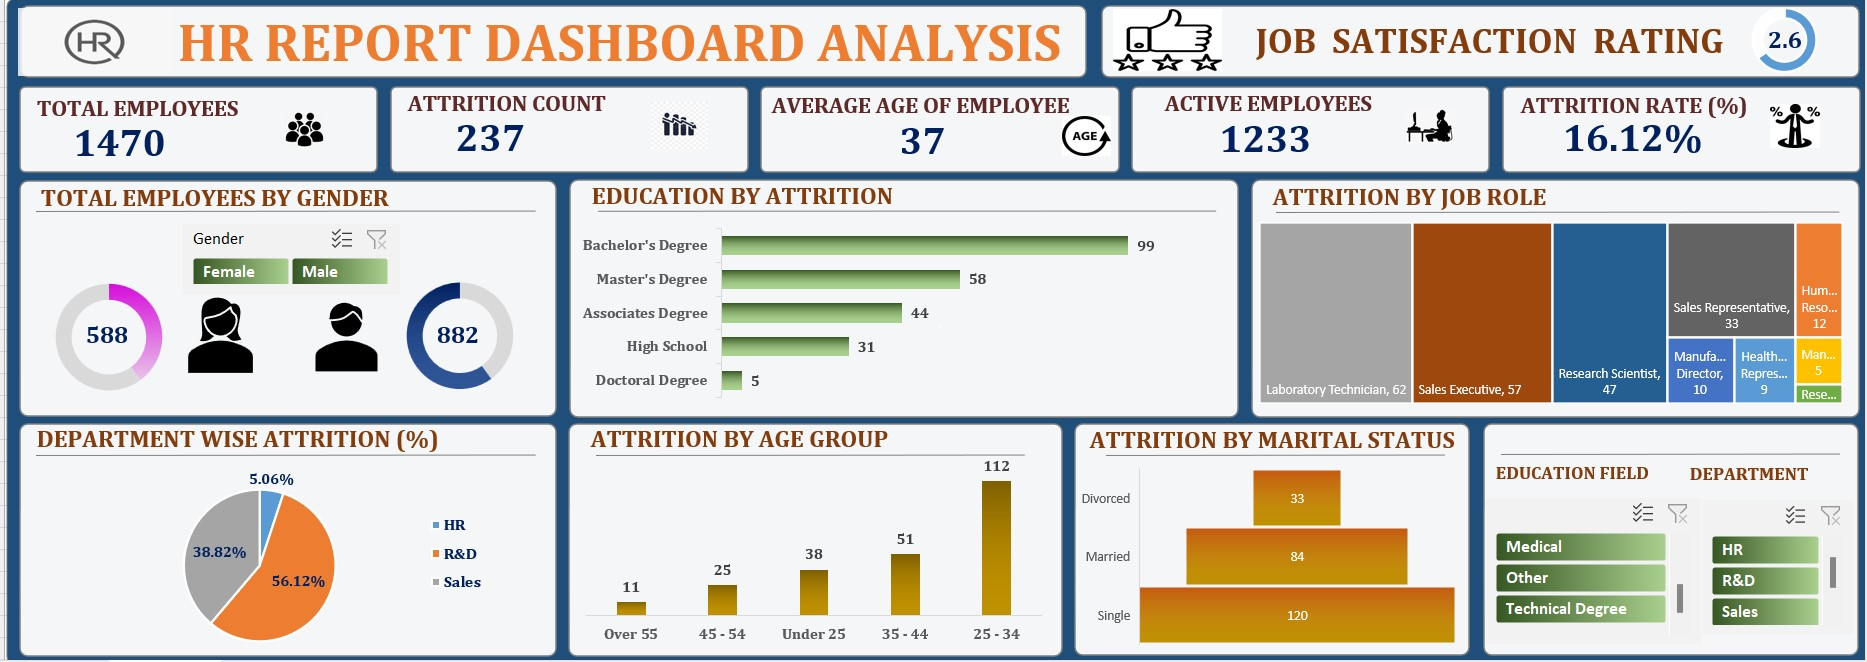

Layout of this report page (visuals, bound fields, positions):
{"tool":"powerbi","page":{"name":"Page 1","canvas":[1280,720],"ordinal":0},"visuals":[{"type":"card","title":"Total Employee","fields":{"Values":["HR DATASET(CSV).Employee Number"]},"box":[0,63.6,200.5,100.2],"z":0},{"type":"card","title":"Attrition Count","fields":{"Values":["HR DATASET(CSV).CF_attrition count"]},"box":[258.2,63.6,200.5,100.2],"z":1000},{"type":"card","title":"Average Age","fields":{"Values":["HR DATASET(CSV).Age"]},"box":[516.5,63.6,200.5,100.2],"z":2000},{"type":"card","title":"Active Employee","fields":{"Values":["HR DATASET(CSV).Active Employee"]},"box":[774.7,63.6,200.5,100.2],"z":3000},{"type":"card","title":"Attrition Rate","fields":{"Values":["HR DATASET(CSV).Attrition Rate"]},"box":[1032.9,63.6,237.1,100.2],"z":4000},{"type":"pieChart","title":"Department Wiese Attrition ","fields":{"Category":["HR DATASET(CSV).Department"],"Y":["HR DATASET(CSV).CF_attrition count"]},"box":[0,172.4,317.8,259.2],"z":5000},{"type":"columnChart","title":"Attrition by age Group & Gender","fields":{"Category":["HR DATASET(CSV).CF_age band"],"Y":["HR DATASET(CSV).CF_attrition count"],"Series":["HR DATASET(CSV).Gender"]},"box":[327.6,172.4,473.1,259.2],"z":6000},{"type":"pivotTable","title":"Job Satisfaction Rating","fields":{"Rows":["HR DATASET(CSV).Job Role"],"Columns":["HR DATASET(CSV).Job Satisfaction"],"Values":["HR DATASET(CSV).Employee Count"]},"box":[816.6,172.4,453.5,259.2],"z":7000},{"type":"barChart","title":"Education Field by Attrition","fields":{"Category":["HR DATASET(CSV).Education Field"],"Y":["HR DATASET(CSV).CF_attrition counts"]},"box":[0,441,318,259],"z":7001},{"type":"donutChart","title":"Under 25","fields":{"Category":["HR DATASET(CSV).Gender"],"Y":["HR DATASET(CSV).CF_attrition count"],"Series":["HR DATASET(CSV).CF_age band"]},"box":[327.6,509.7,176,190.7],"z":7002},{"type":"textbox","box":[327.6,441.3,941.3,58.7],"z":7003},{"type":"donutChart","title":"45-54","fields":{"Category":["HR DATASET(CSV).Gender"],"Y":["HR DATASET(CSV).CF_attrition count"],"Series":["HR DATASET(CSV).CF_age band"]},"box":[877.4,509.7,201.6,190.2],"z":7004},{"type":"donutChart","title":"35-44","fields":{"Category":["HR DATASET(CSV).Gender"],"Y":["HR DATASET(CSV).CF_attrition count"],"Series":["HR DATASET(CSV).CF_age band"]},"box":[685.8,509.7,191.9,190.7],"z":7005},{"type":"donutChart","title":"25-34","fields":{"Category":["HR DATASET(CSV).Gender"],"Y":["HR DATASET(CSV).CF_attrition count"],"Series":["HR DATASET(CSV).CF_age band"]},"box":[503.6,509.7,182.1,190.7],"z":7006},{"type":"donutChart","title":"Over 55","fields":{"Category":["HR DATASET(CSV).Gender"],"Y":["HR DATASET(CSV).CF_attrition count"],"Series":["HR DATASET(CSV).CF_age band"]},"box":[1079,509.7,201.6,190.2],"z":7007},{"type":"card","fields":{"Values":["HR DATASET(CSV).CF_attrition count"]},"box":[374.8,592,80.9,59.6],"z":7008},{"type":"card","fields":{"Values":["HR DATASET(CSV).CF_attrition count"]},"box":[556.5,597.7,75.2,48.3],"z":7009},{"type":"card","fields":{"Values":["HR DATASET(CSV).CF_attrition count"]},"box":[742,592.9,80.7,59.9],"z":7010},{"type":"card","fields":{"Values":["HR DATASET(CSV).CF_attrition count"]},"box":[935.1,591.6,80.7,59.9],"z":7011},{"type":"card","fields":{"Values":["HR DATASET(CSV).CF_attrition count"]},"box":[1139.3,591.6,80.7,59.9],"z":7012},{"type":"textbox","box":[0,2.4,544,51.3],"z":7013},{"type":"slicer","fields":{"Values":["HR DATASET(CSV).Education"]},"box":[543.7,4.3,736.8,49.7],"z":7014}]}

Visuals, with their boxes in screenshot pixels (x1, y1, x2, y2):
"Total Employee" card: (x1=282, y1=85, x2=457, y2=172)
"Attrition Count" card: (x1=508, y1=85, x2=683, y2=172)
"Average Age" card: (x1=733, y1=85, x2=908, y2=172)
"Active Employee" card: (x1=959, y1=85, x2=1134, y2=172)
"Attrition Rate" card: (x1=1184, y1=85, x2=1391, y2=172)
"Department Wiese Attrition " pieChart: (x1=282, y1=180, x2=560, y2=406)
"Attrition by age Group & Gender" columnChart: (x1=568, y1=180, x2=981, y2=406)
"Job Satisfaction Rating" pivotTable: (x1=995, y1=180, x2=1392, y2=406)
"Education Field by Attrition" barChart: (x1=282, y1=414, x2=560, y2=641)
"Under 25" donutChart: (x1=568, y1=474, x2=722, y2=641)
textbox: (x1=568, y1=415, x2=1390, y2=466)
"45-54" donutChart: (x1=1048, y1=474, x2=1225, y2=641)
"35-44" donutChart: (x1=881, y1=474, x2=1049, y2=641)
"25-34" donutChart: (x1=722, y1=474, x2=881, y2=641)
"Over 55" donutChart: (x1=1225, y1=474, x2=1401, y2=641)
card - HR DATASET(CSV).CF_attrition count: (x1=609, y1=546, x2=680, y2=598)
card - HR DATASET(CSV).CF_attrition count: (x1=768, y1=551, x2=834, y2=593)
card - HR DATASET(CSV).CF_attrition count: (x1=930, y1=547, x2=1001, y2=599)
card - HR DATASET(CSV).CF_attrition count: (x1=1099, y1=546, x2=1169, y2=598)
card - HR DATASET(CSV).CF_attrition count: (x1=1277, y1=546, x2=1348, y2=598)
textbox: (x1=282, y1=31, x2=757, y2=76)
slicer - HR DATASET(CSV).Education: (x1=757, y1=33, x2=1401, y2=76)
